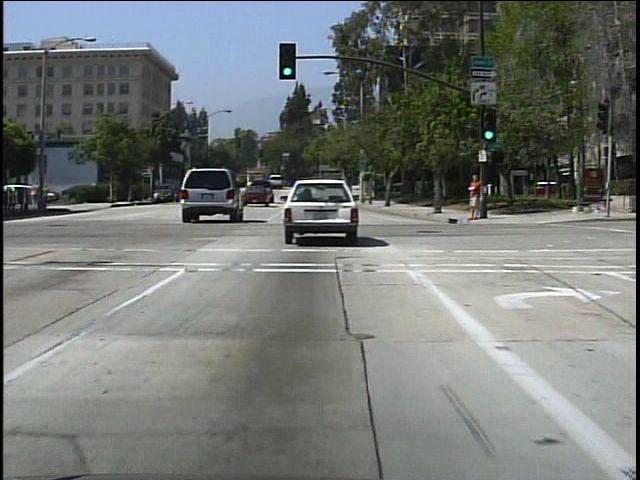person: (465, 171, 488, 225), (33, 180, 45, 212), (42, 183, 52, 210)
